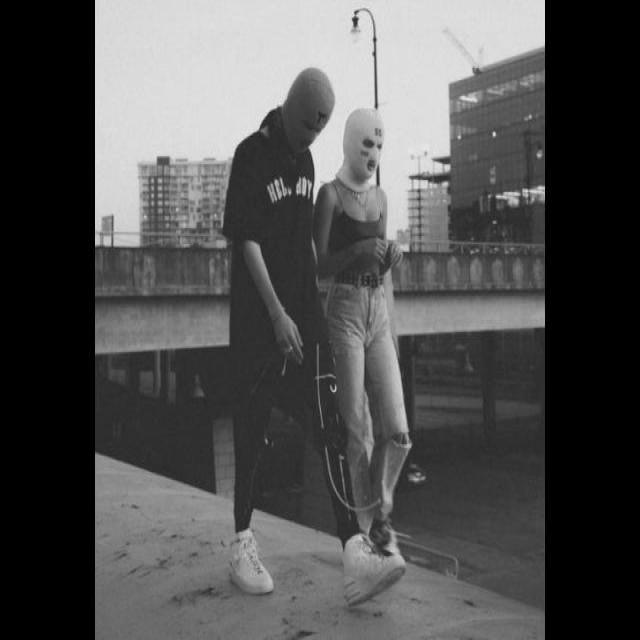6_pasamontana: (334, 107, 386, 192)
